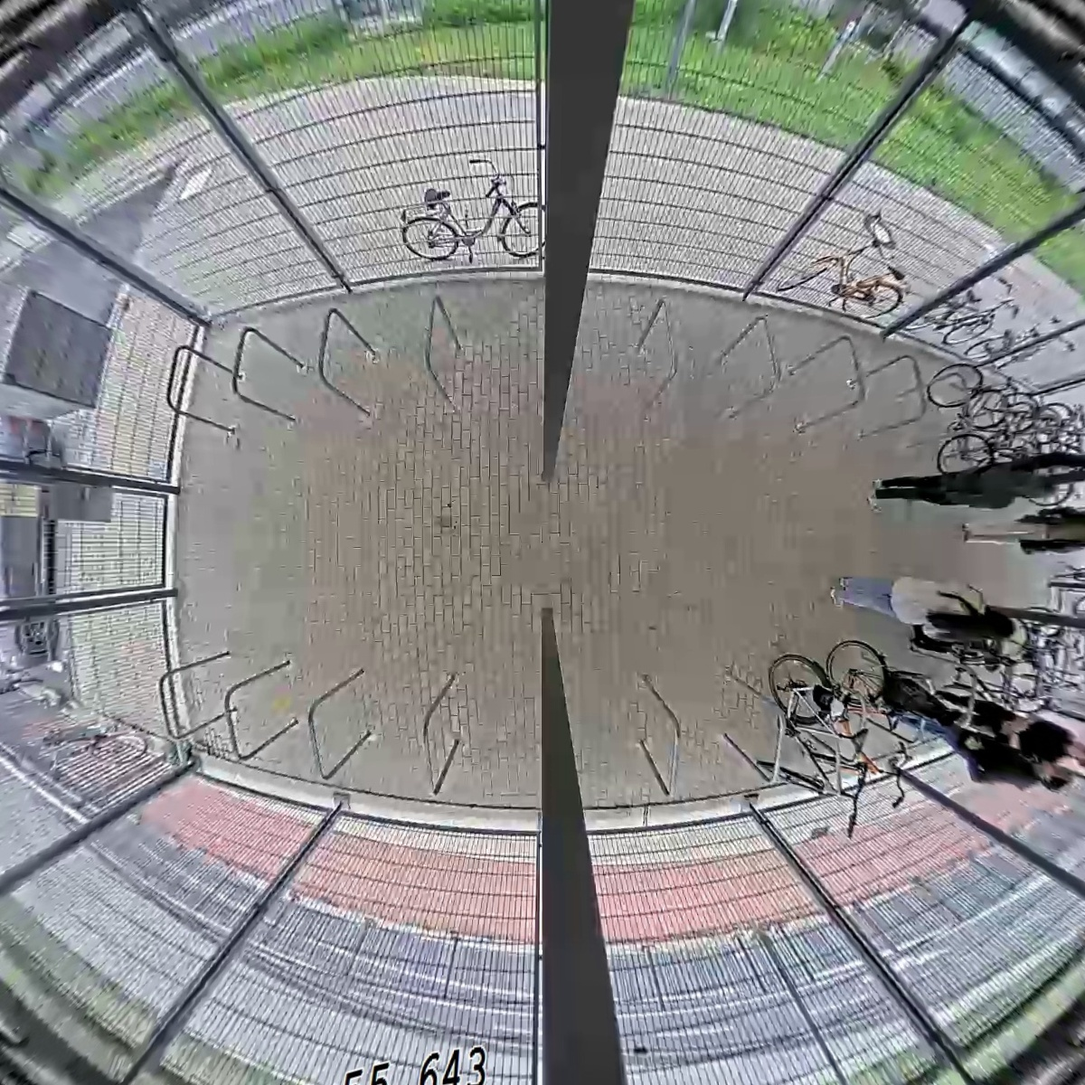bicylce: (809, 641, 899, 811), (766, 655, 869, 789), (924, 360, 1019, 481), (999, 603, 1082, 717)
saddle: (846, 726, 872, 756), (883, 709, 901, 733), (995, 421, 1014, 440), (1027, 652, 1041, 671)
